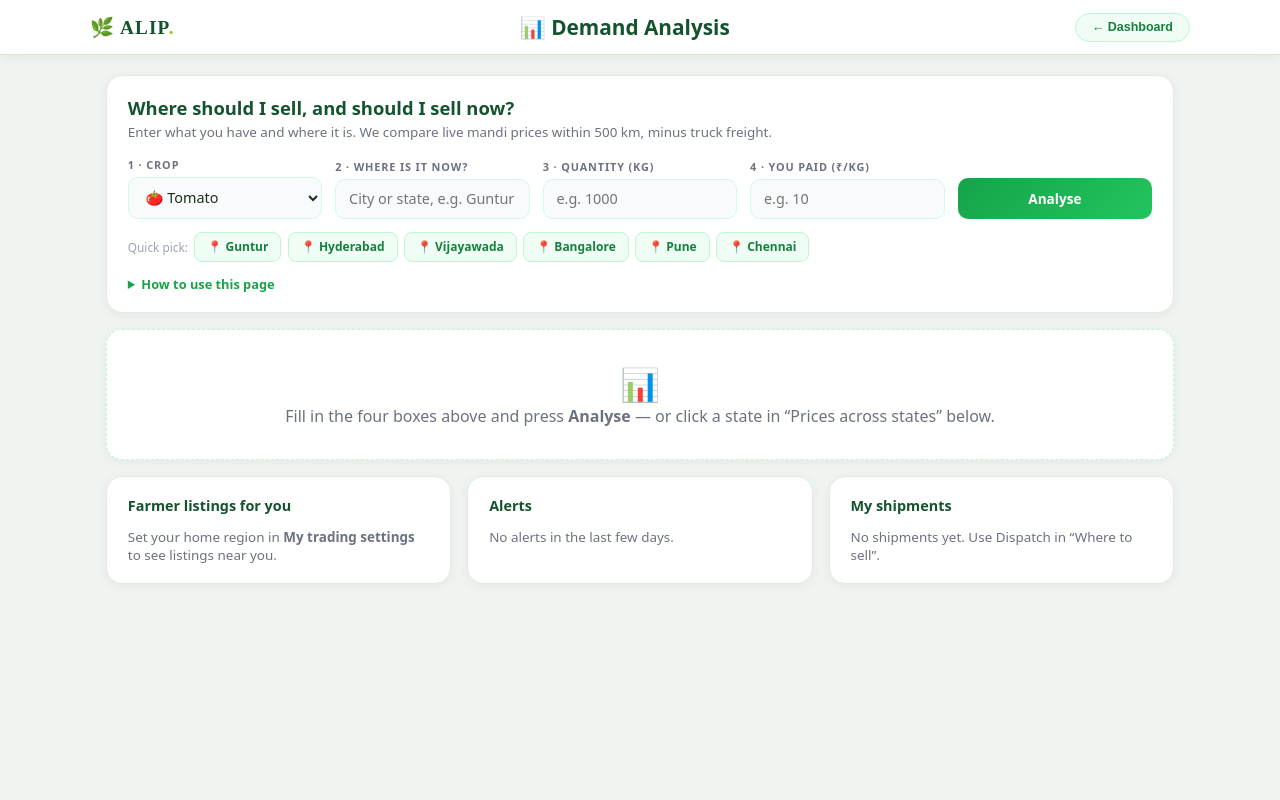
Test: API errors are shown, not swallowed
This screenshot has width=1280, height=800.
Type "Guntur" into the field labelled "2 · Where is it now?" at [432, 199], box [335, 179, 530, 219]
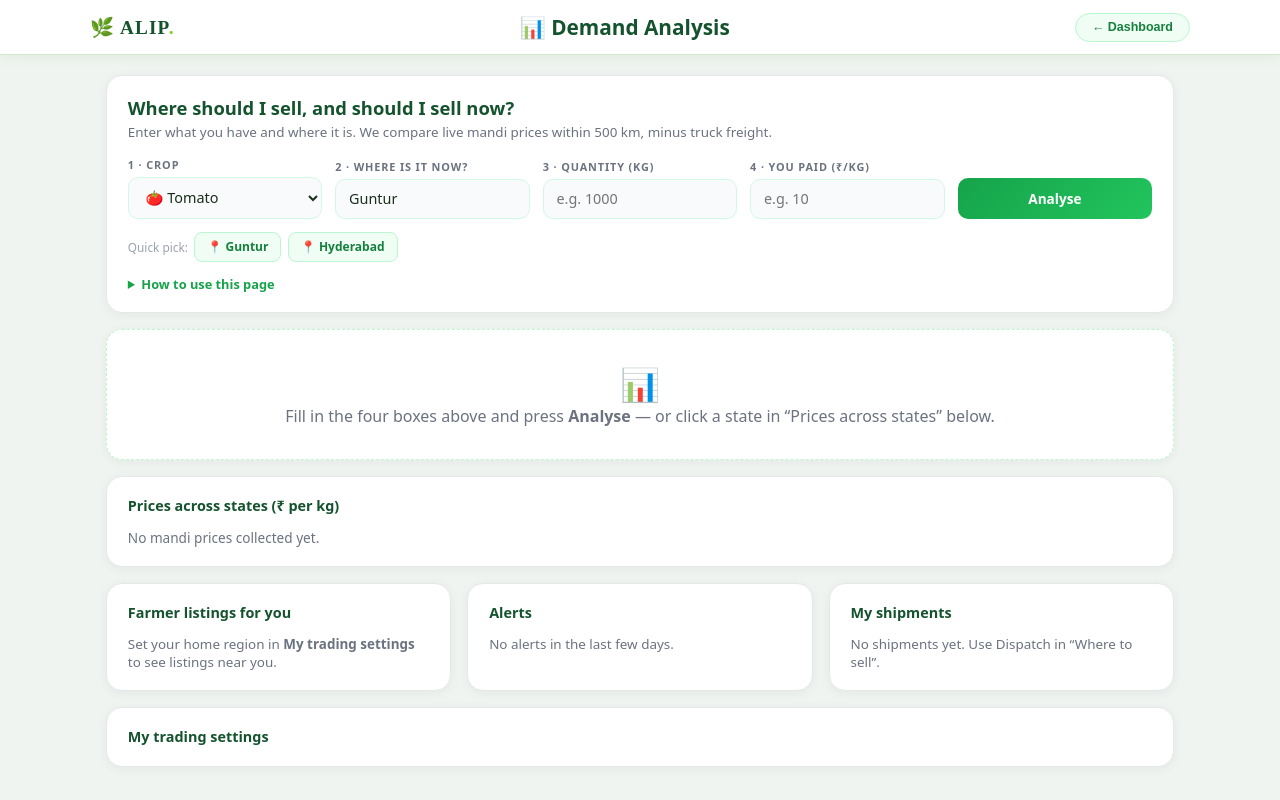
Click the button "Analyse" at [1055, 198], box [958, 178, 1152, 219]
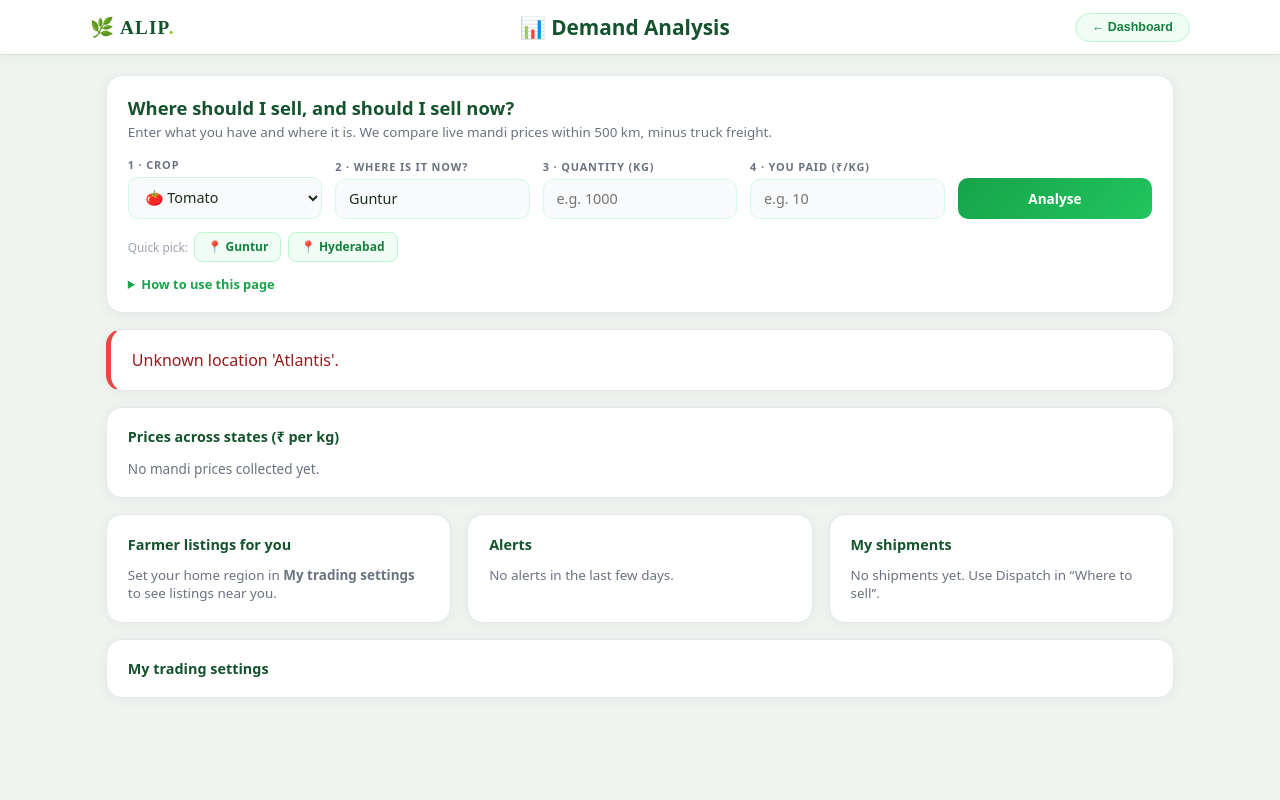
Expected: the message reads "Unknown location 'Atlantis'.", [132, 349, 339, 371]
